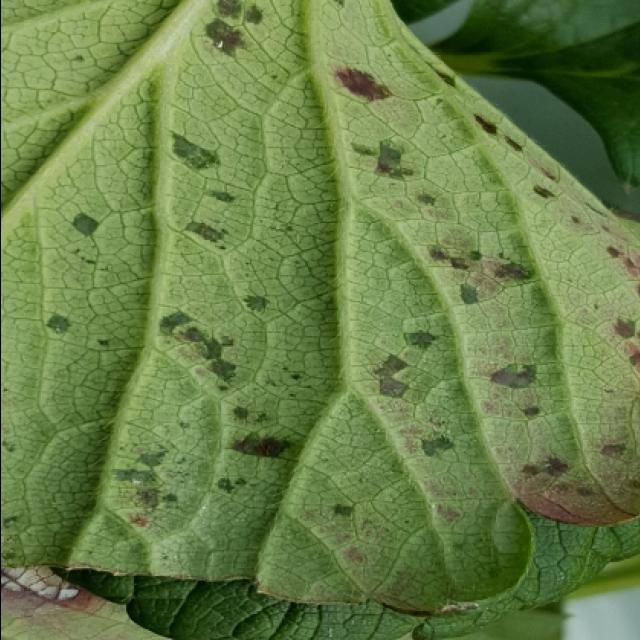Angular Leafspot: (2, 0, 640, 618), (2, 568, 170, 638)
